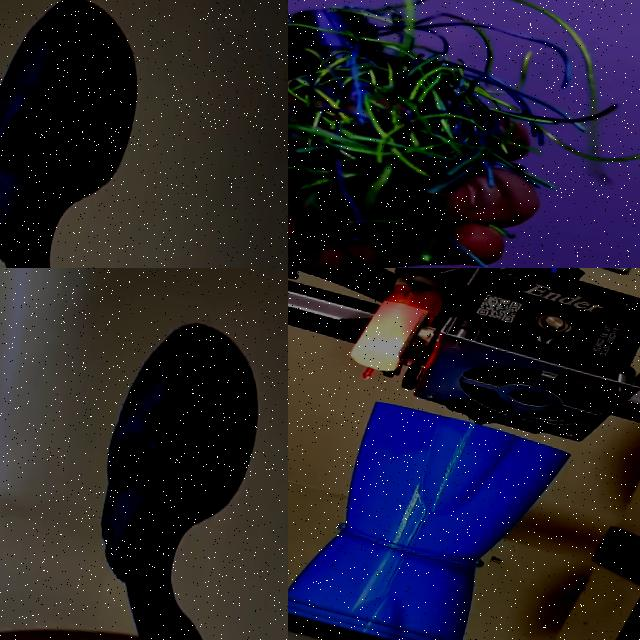spaghetti: (288, 0, 587, 211)
